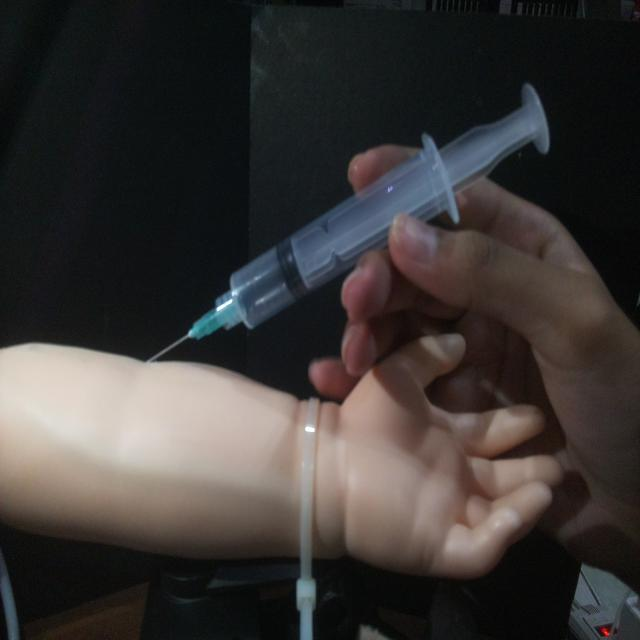26deg: (141, 77, 554, 366)
